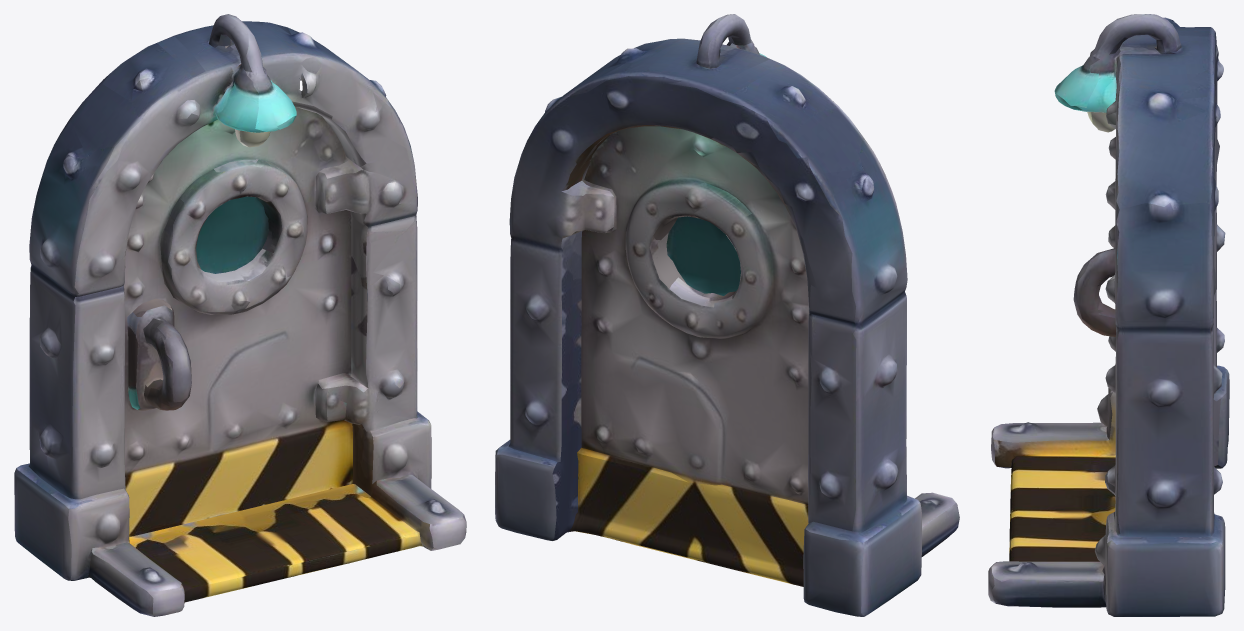
Rendered from airlock_door.glb.
3 views of the same model, side by side, from view 1: azimuth 30°, elevation 25°; view 2: azimuth 150°, elevation 25°; view 3: azimuth 270°, elevation 25° (orthographic). The views are drawn at different scales.
Parts seen in each view (by area): view 1: airlock_door_s43; view 2: airlock_door_s43; view 3: airlock_door_s43.
Boxes of the visible parts, x1=… form: airlock_door_s43: x1=14, y1=14, x2=466, y2=616; airlock_door_s43: x1=495, y1=14, x2=959, y2=616; airlock_door_s43: x1=988, y1=14, x2=1229, y2=616.
Size of the model in its own units: 0.7494 by 1 by 0.4243.
1 material, 1 textured.
